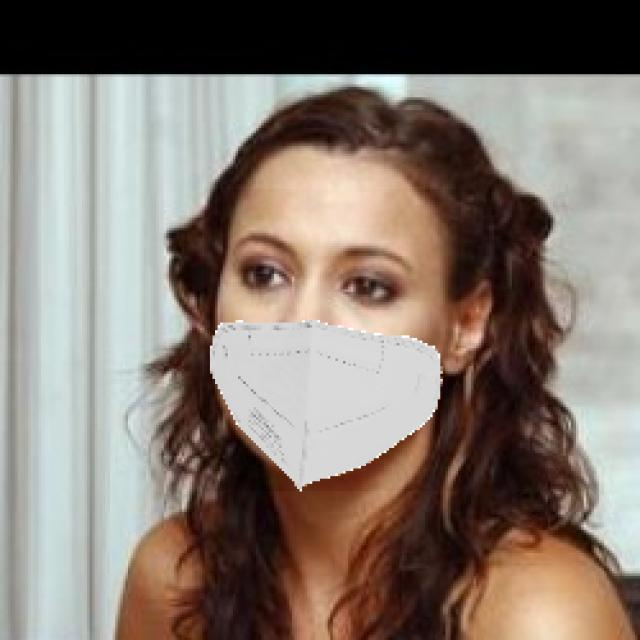kn95: (204, 189, 461, 491)
